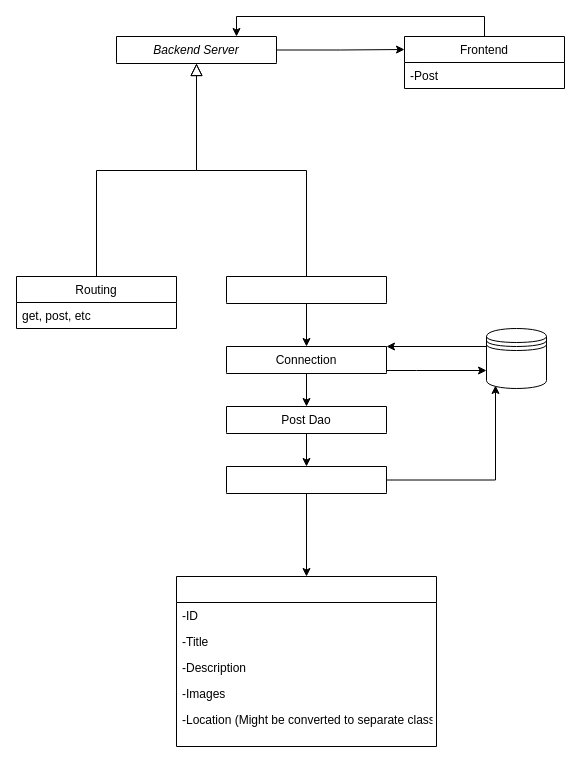
Some shapes in this 581 by 763 pixel diagram are drawn without their labels. Each missing label, with the box of its shape:
Database Stuff: (226, 276, 386, 304)
Post: (176, 576, 436, 746)
Post sq120 Dao: (226, 466, 386, 494)
